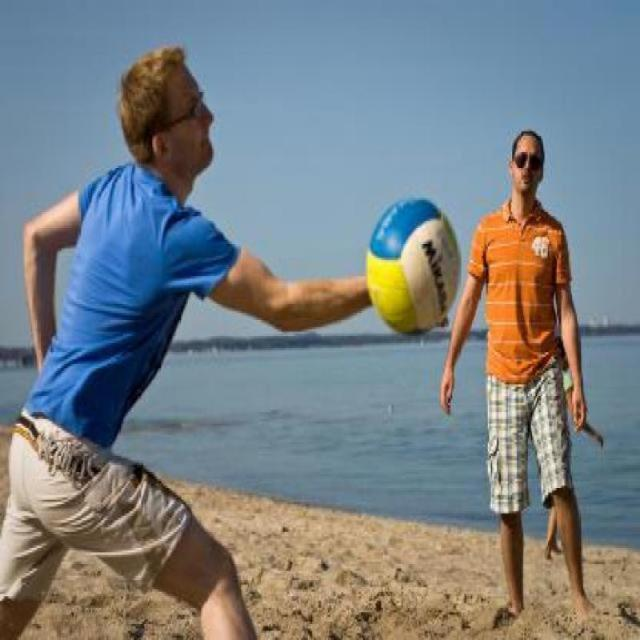volleyball: (364, 198, 460, 338)
